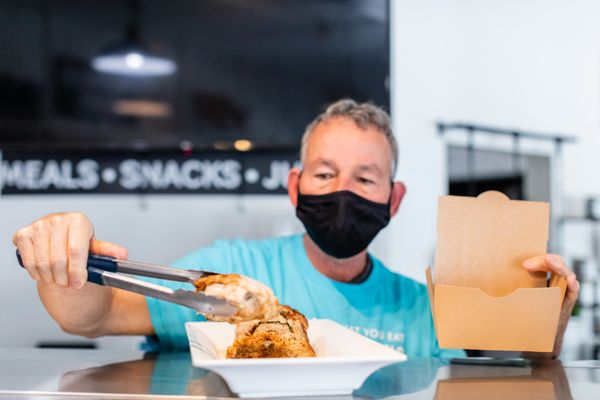pasta: (427, 191, 579, 357), (430, 273, 576, 357)
